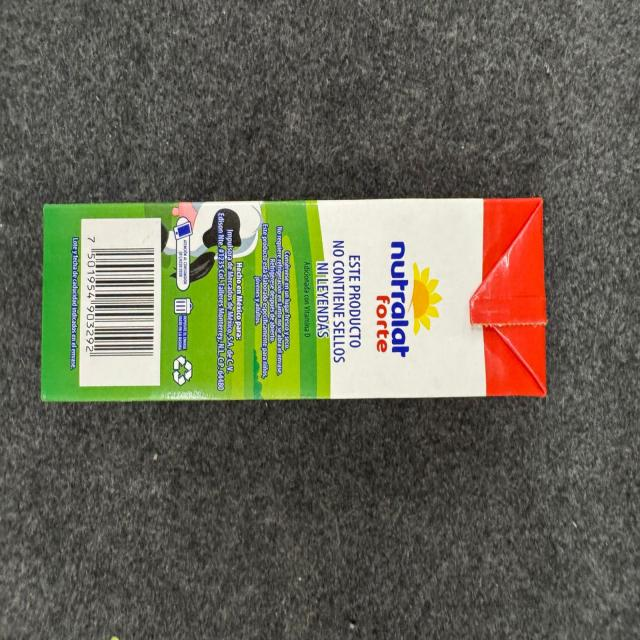PLC NUTRALAT FORTE 1LT: (43, 198, 543, 402)
